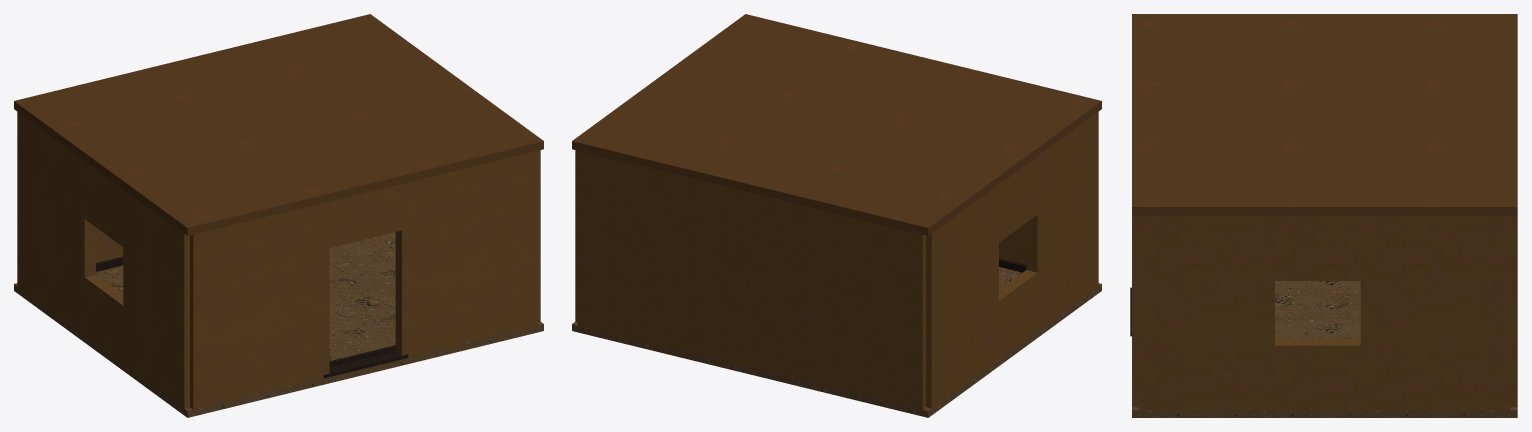
The model's file is int_silkroad_house_01.glb.
3 renders of one model, left to right at view 1: azimuth 30°, elevation 25°; view 2: azimuth 150°, elevation 25°; view 3: azimuth 270°, elevation 25°, orthographic. The views are drawn at different scales.
Parts seen in each view (by area): view 1: int_silkroad_house_01; view 2: int_silkroad_house_01; view 3: int_silkroad_house_01.
Part boxes in pixels (box(x1,y1,x2,y2)): int_silkroad_house_01: box(14, 14, 543, 417); int_silkroad_house_01: box(572, 14, 1101, 417); int_silkroad_house_01: box(1130, 14, 1517, 417).
Bounding box in the file's own units: 6.4 × 3.26 × 5.42.
Materials: 5 (4 with a texture image).
